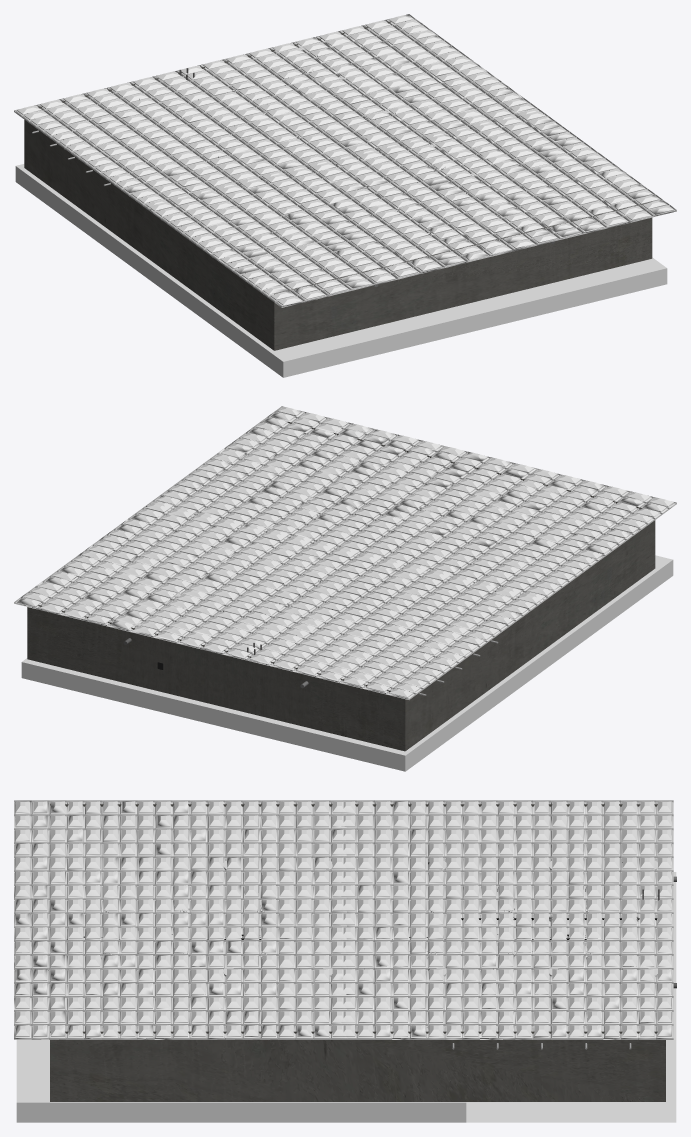
File: garage.glb
3 views of the same model, one above another, from view 1: azimuth 30°, elevation 25°; view 2: azimuth 150°, elevation 25°; view 3: azimuth 270°, elevation 25° (orthographic). The views are drawn at different scales.
Visible parts, largest first — view 1: Cylinder, Cube; view 2: Cylinder, Cube; view 3: Cylinder, Cube.
Boxes of the visible parts, x1,y1,x2,y2 form: Cylinder: [14, 14, 676, 377]; Cube: [24, 21, 652, 350]; Cylinder: [14, 406, 676, 771]; Cube: [27, 422, 655, 751]; Cylinder: [14, 800, 676, 1122]; Cube: [50, 804, 665, 1101].
Bounding box in the file's own units: 50.88 × 9.68 × 60.
Materials: 9 (9 with a texture image).
